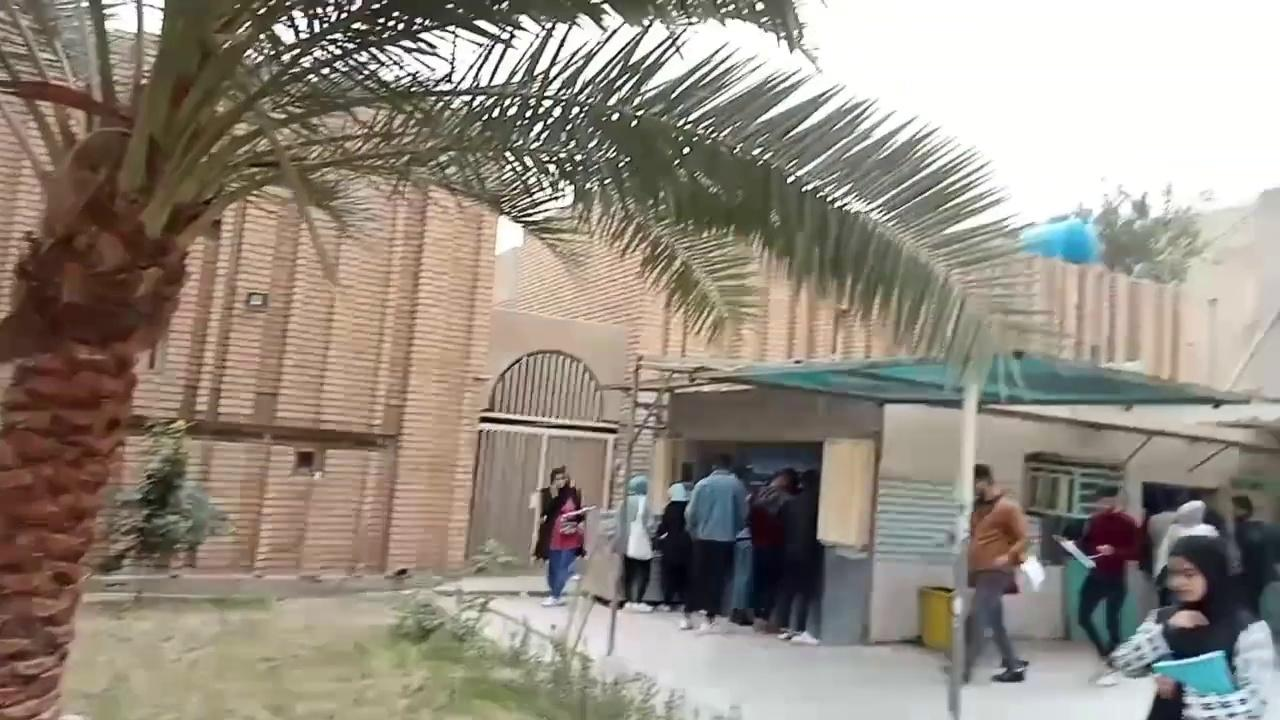person: (1145, 533, 1263, 719), (959, 463, 1030, 683), (1075, 483, 1142, 686), (680, 452, 749, 630), (774, 468, 822, 644), (1153, 499, 1221, 608), (535, 466, 585, 606), (610, 474, 656, 612), (655, 481, 694, 612)
tree: (0, 0, 1050, 716), (92, 413, 238, 576), (1018, 179, 1221, 286)
